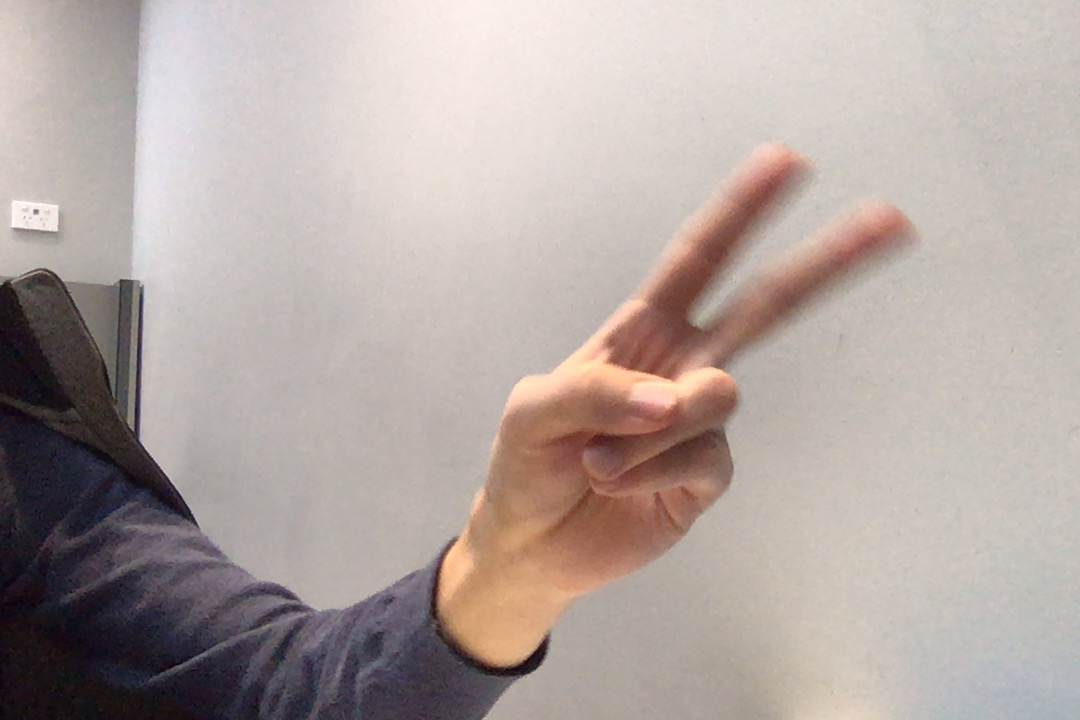peacesign: (470, 125, 932, 616)
